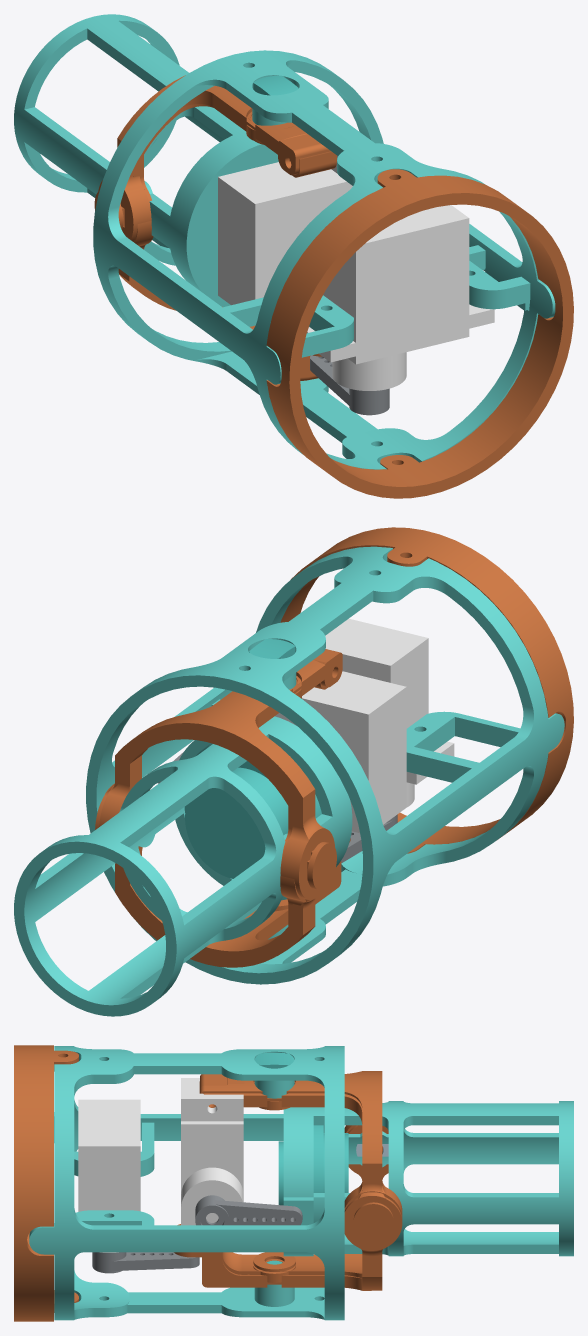
Rendered from TVC.glb.
The picture shows the model from 3 angles, top to bottom: view 1: azimuth 30°, elevation 25°; view 2: azimuth 150°, elevation 25°; view 3: azimuth 270°, elevation 25°; orthographic projection. The views are drawn at different scales.
Visible parts, largest first — view 1: Part 1 (×8), Servo Horn; view 2: Part 1 (×10); view 3: Part 1 (×10), Servo Horn (×2).
Part boxes in pixels (x1=…): Part 1 (×8): x1=14, y1=14, x2=573, y2=498; Servo Horn: x1=310, y1=355, x2=389, y2=415; Part 1 (×10): x1=14, y1=527, x2=573, y2=1016; Part 1 (×10): x1=14, y1=1045, x2=573, y2=1321; Servo Horn (×2): x1=92, y1=1195, x2=302, y2=1273.
Bounding box in the file's own units: 0.0552 × 0.0552 × 0.1118.
